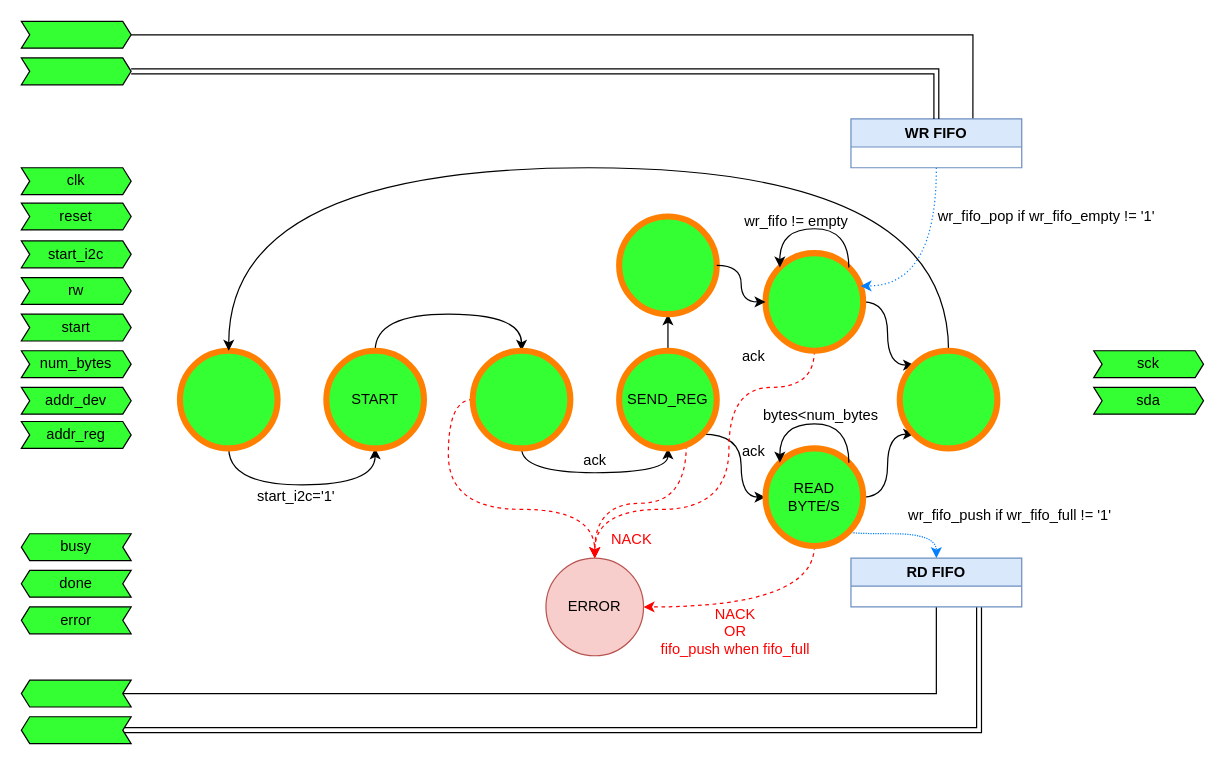
Image size: 1225x765. Some labels were removed from this diagram. The centre of each missing label's shape, as x and y in pixels:
"IDLE" belongs at pixel 228 399.
"rd_fifo_data" belongs at pixel 75 730.
"rd_fifo_pop" belongs at pixel 75 693.
"SEND ADDR_RD" belongs at pixel 667 265.
"SEND_ADDR" belongs at pixel 521 399.
"STOP" belongs at pixel 948 399.
"wr_fifo_data" belongs at pixel 75 71.
"wr_fifo_push" belongs at pixel 75 34.
"WRITE BYTE/S" belongs at pixel 814 301.
